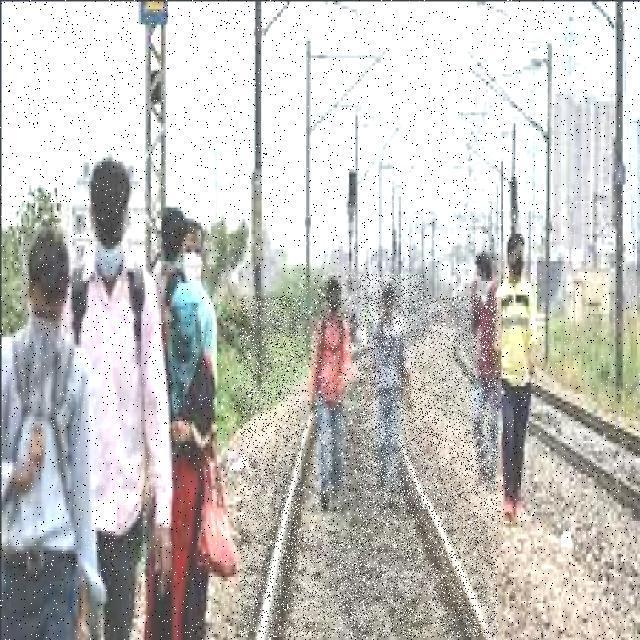danger: (359, 274, 424, 508), (300, 276, 358, 530)
rail: (240, 297, 498, 638)
